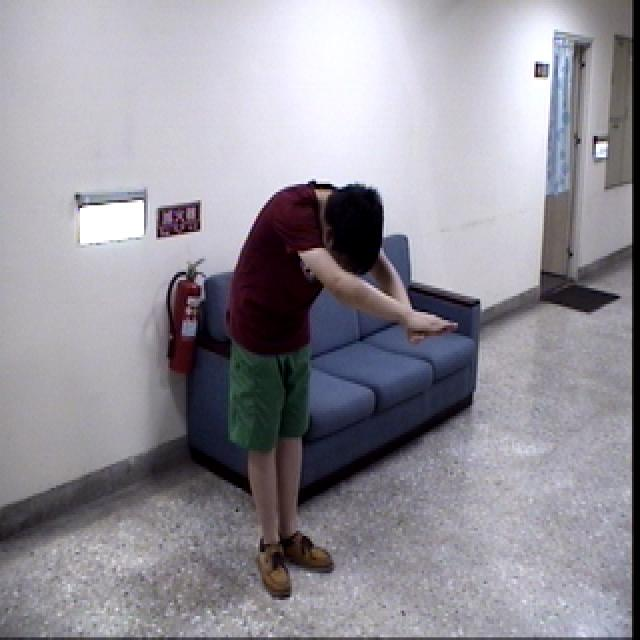bend: (222, 165, 467, 610)
